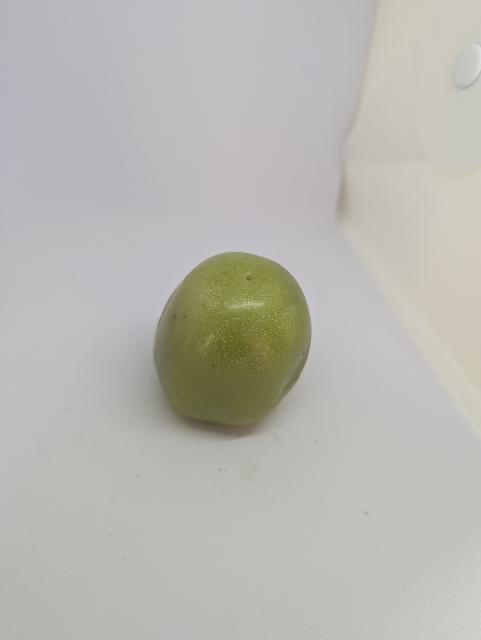green: (151, 238, 320, 438)
